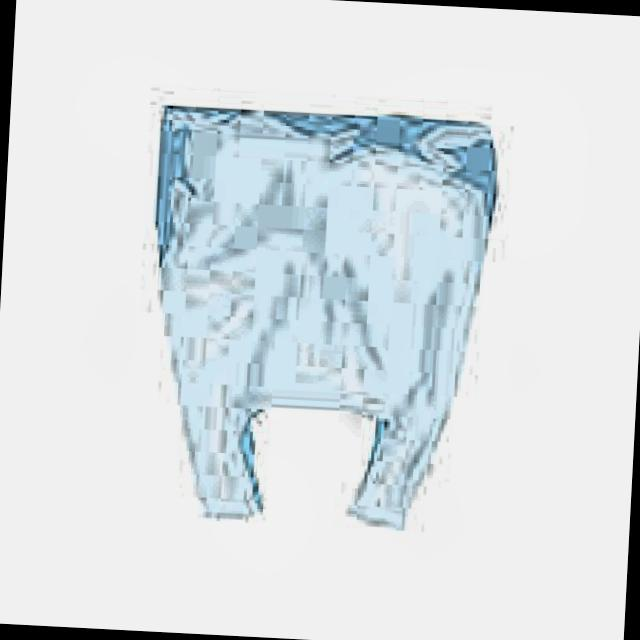plastic bag: (156, 112, 495, 527)
